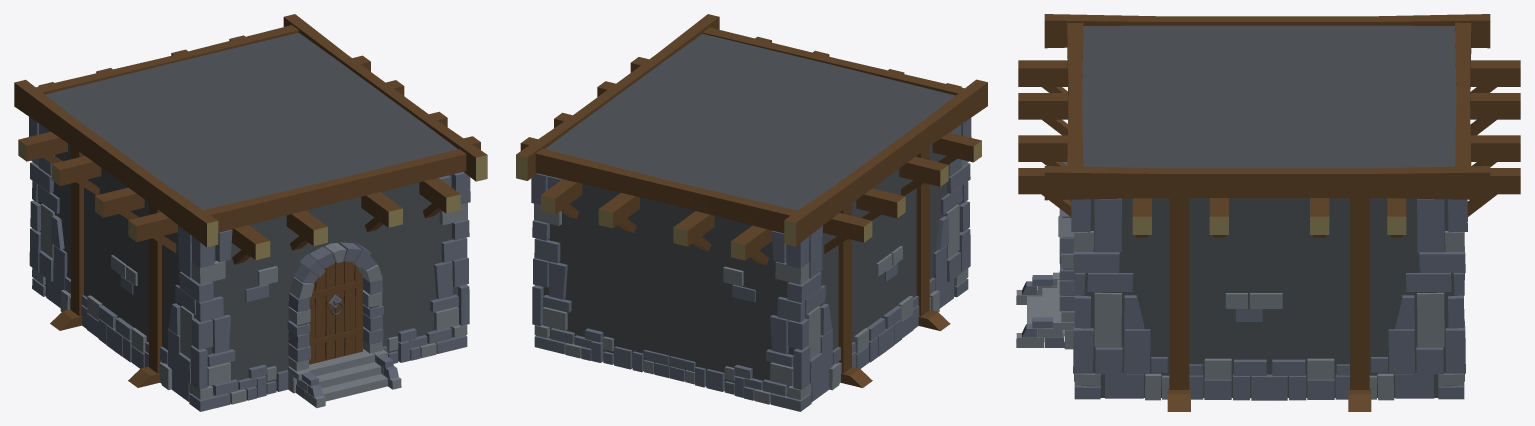
Rendered from house_med1.glb.
3 renders of one model, left to right at view 1: azimuth 30°, elevation 25°; view 2: azimuth 150°, elevation 25°; view 3: azimuth 270°, elevation 25°, orthographic. The views are drawn at different scales.
Visible parts, largest first — view 1: House_4; view 2: House_4; view 3: House_4.
Part boxes in pixels (<box>): House_4: <box>14,14,487,411</box>; House_4: <box>516,14,987,411</box>; House_4: <box>1016,14,1520,411</box>.
Size of the model in its own units: 1.94 by 1.07 by 2.12.
1 material, 1 textured.
